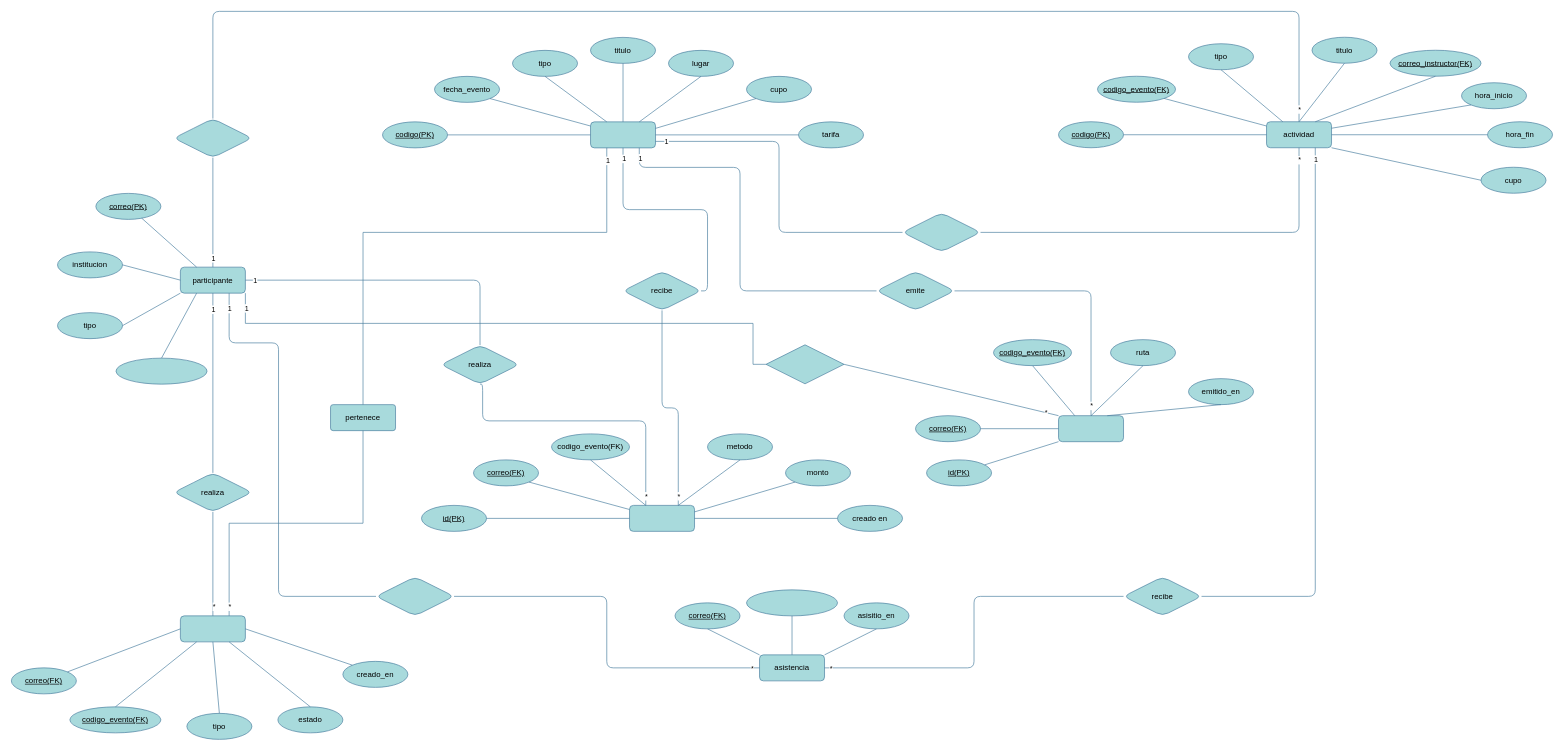
This 1564x751 diagram has some shape labels left out. The box of each missing label's shape, as (x1, y1, x2, y2) in pixels:
certificado: (1058, 415, 1124, 442)
codigo_actividad(FK): (746, 589, 838, 616)
evento: (590, 121, 656, 148)
inscripcion: (180, 615, 245, 642)
instruye: (173, 118, 252, 158)
nombre_completo: (115, 358, 207, 384)
obtiene: (765, 344, 844, 384)
pago: (629, 505, 695, 531)
registra: (375, 576, 454, 616)
tiene: (902, 212, 981, 252)
